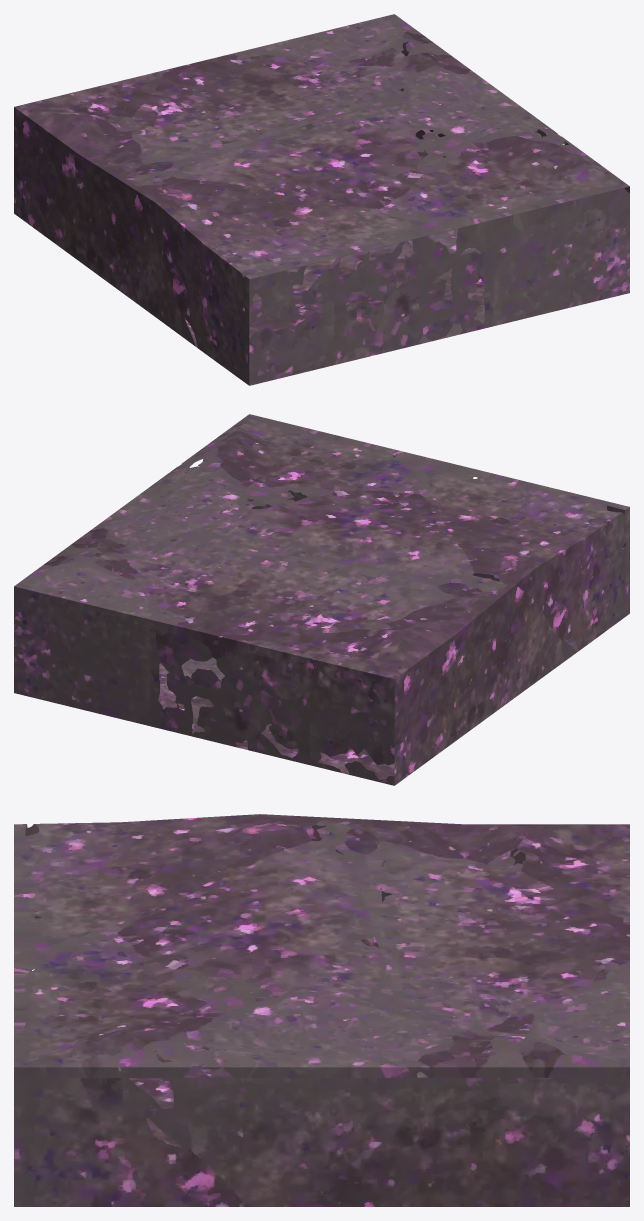
The picture shows the model from 3 angles, top to bottom: view 1: azimuth 30°, elevation 25°; view 2: azimuth 150°, elevation 25°; view 3: azimuth 270°, elevation 25°; orthographic projection. The views are drawn at different scales.
Parts seen in each view (by area): view 1: SM_Abyssal_Ash_01_LOD0; view 2: SM_Abyssal_Ash_01_LOD0; view 3: SM_Abyssal_Ash_01_LOD0.
Boxes of the visible parts, x1,y1,x2,y2 form: SM_Abyssal_Ash_01_LOD0: [14, 14, 629, 385]; SM_Abyssal_Ash_01_LOD0: [14, 414, 629, 785]; SM_Abyssal_Ash_01_LOD0: [14, 814, 629, 1206].
Bounding box in the file's own units: 2.8 × 0.915 × 3.
